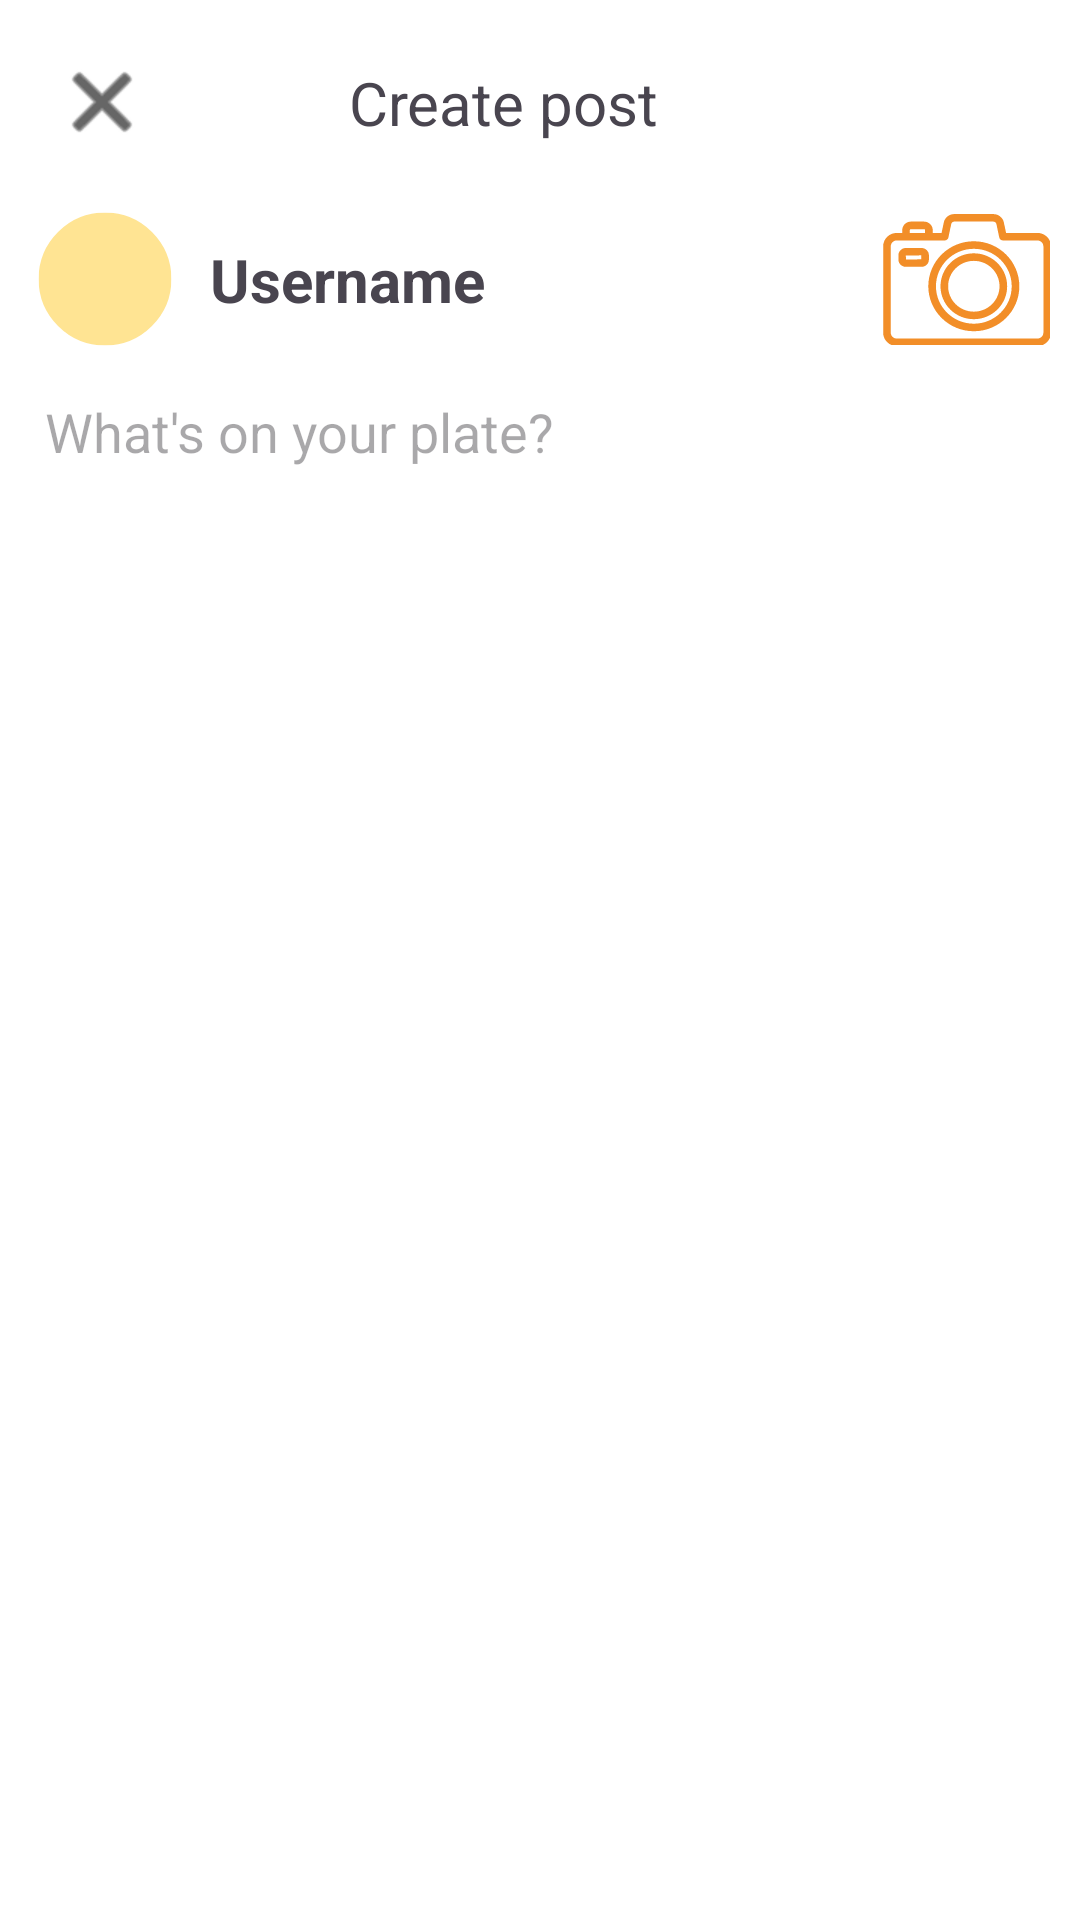

Named icons in this screenshot (1080×1920) and their centers, point (x, y):
Camera Button: point (966, 279)
Close Button: point (102, 102)
